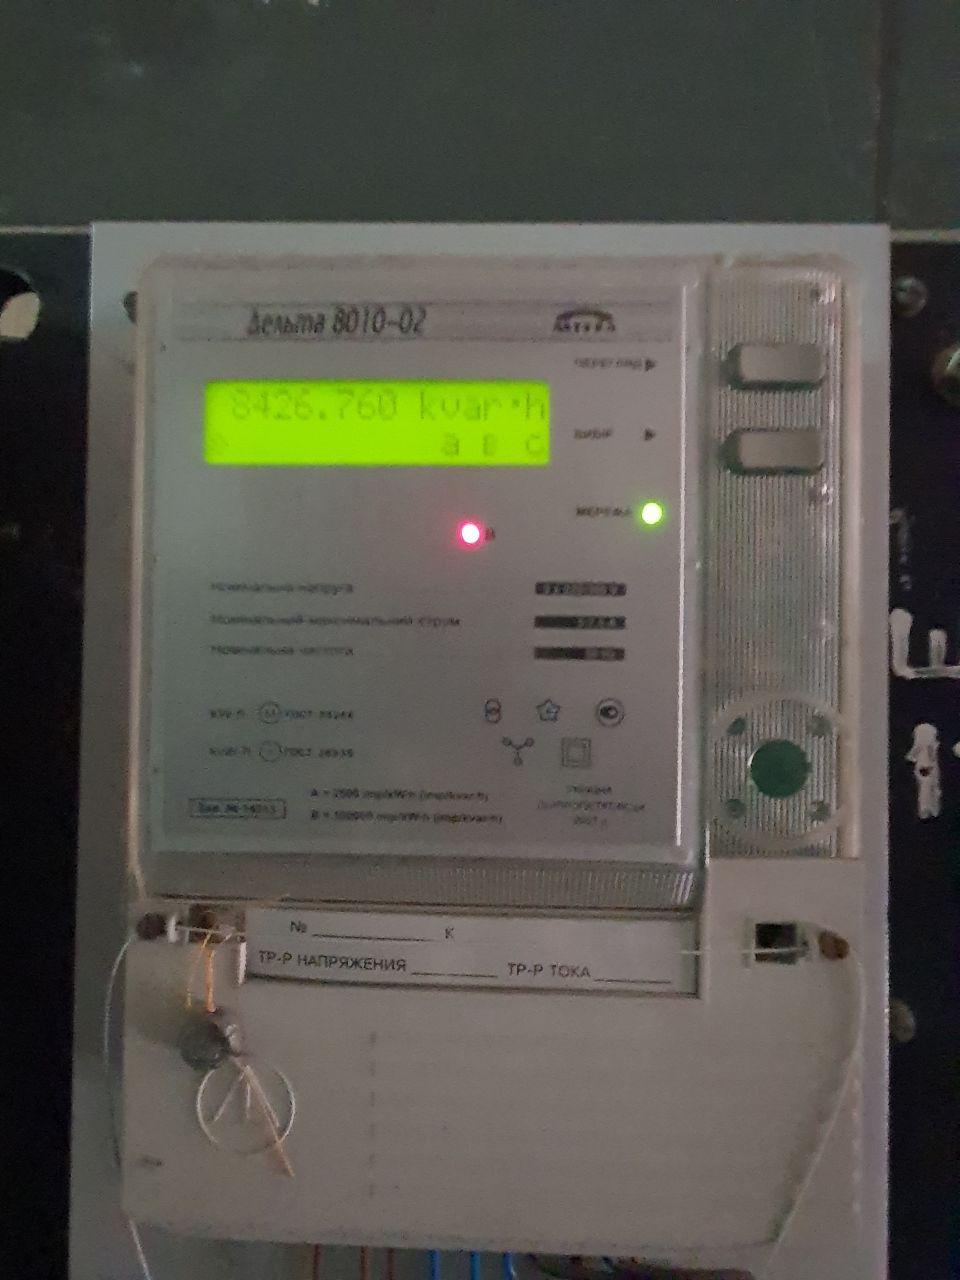counter: (115, 240, 862, 1272)
counter_screen: (198, 373, 555, 474)
